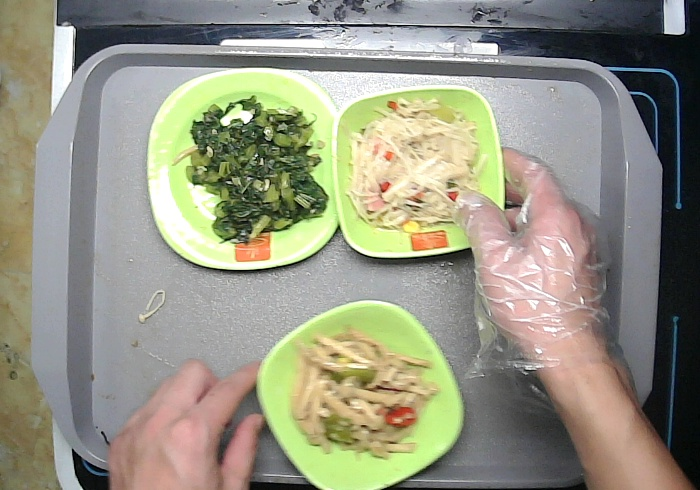SHKJ-Lv_Se_Cai_Die: (257, 296, 469, 490)
SHKJ-Lv_Se_Si_Fang_Cai_Die: (144, 65, 348, 272)
SHKJ-Lv_Se_Xiao_Fang_Die: (332, 82, 508, 259)
